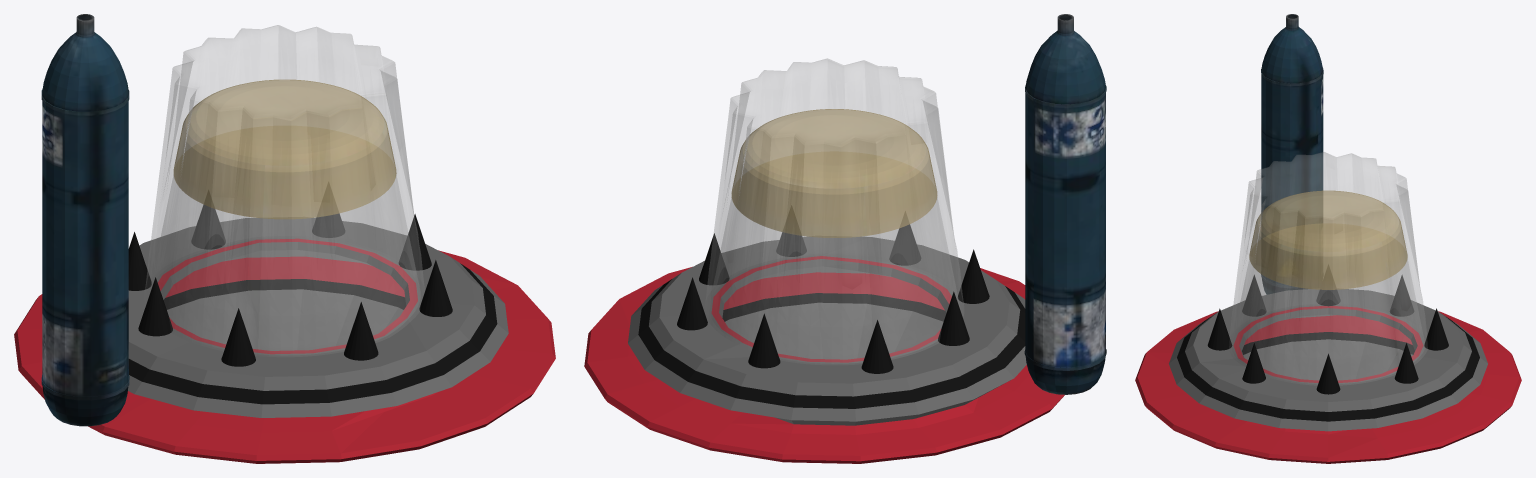
The picture shows the model from 3 angles, left to right: view 1: azimuth 30°, elevation 25°; view 2: azimuth 150°, elevation 25°; view 3: azimuth 270°, elevation 25°; orthographic projection. The views are drawn at different scales.
Parts seen in each view (by area): view 1: slot_anchor_saucer, slot_dome, slot_add04_a_blue_metal_gas_c; view 2: slot_anchor_saucer, slot_dome, slot_add04_a_blue_metal_gas_c; view 3: slot_anchor_saucer, slot_dome, slot_add04_a_blue_metal_gas_c.
Boxes of the visible parts, <box> form: slot_anchor_saucer: <box>14,205,555,463</box>; slot_dome: <box>145,25,424,356</box>; slot_add04_a_blue_metal_gas_c: <box>41,14,129,426</box>; slot_anchor_saucer: <box>584,224,1064,463</box>; slot_dome: <box>705,58,963,364</box>; slot_add04_a_blue_metal_gas_c: <box>1024,14,1106,394</box>; slot_anchor_saucer: <box>1135,275,1521,463</box>; slot_dome: <box>1229,152,1427,384</box>; slot_add04_a_blue_metal_gas_c: <box>1261,14,1323,294</box>.
Bounding box in the file's own units: 2.11 × 1.97 × 2.
Materials: 3 (3 with a texture image).
